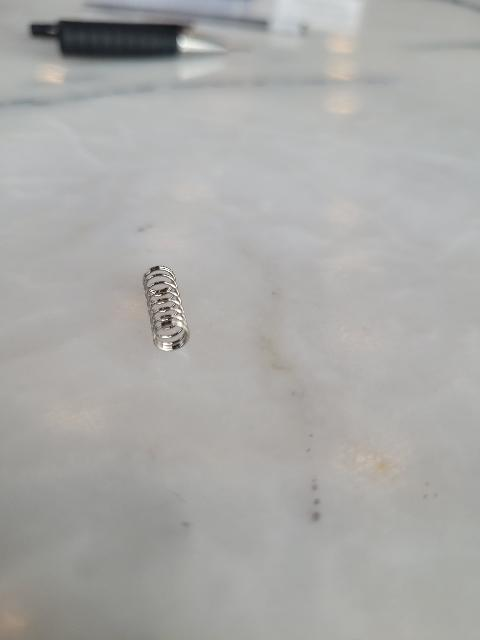Metal: (139, 263, 195, 360)
Plastik: (19, 11, 252, 71)
